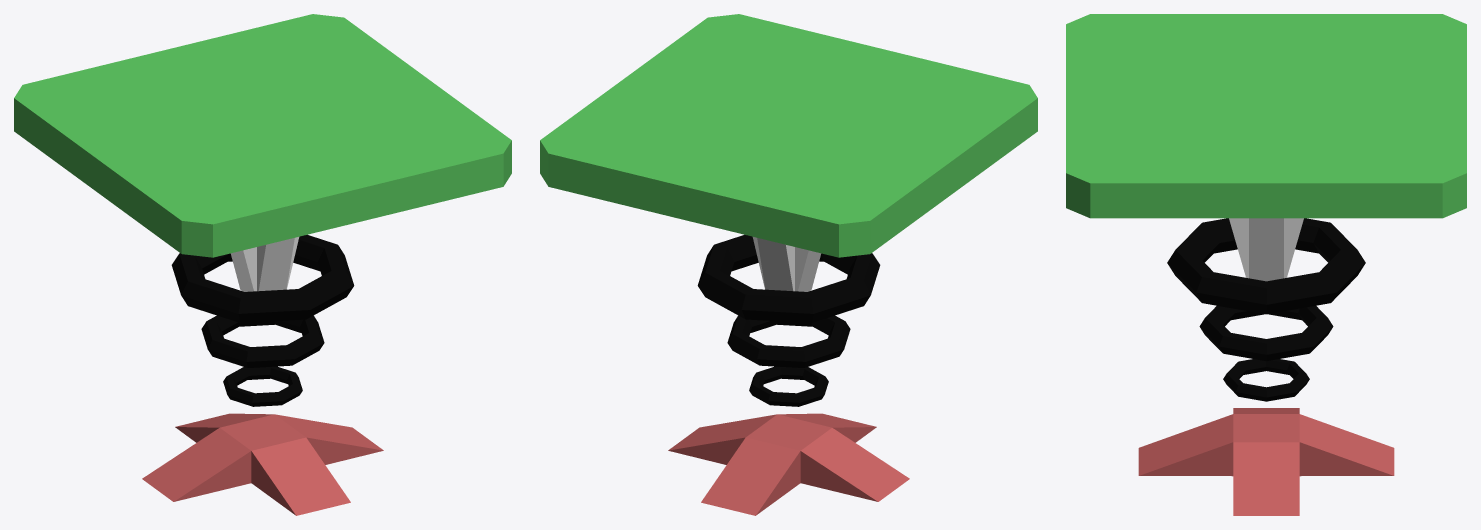
File: HoverTable.fbx
The picture shows the model from 3 angles, left to right: view 1: azimuth 30°, elevation 25°; view 2: azimuth 150°, elevation 25°; view 3: azimuth 270°, elevation 25°; orthographic projection. The views are drawn at different scales.
Parts seen in each view (by area): view 1: pCube4, pCube3, pTorus2, pTorus1, pCube5, pTorus3; view 2: pCube4, pCube3, pTorus2, pTorus1, pCube5, pTorus3; view 3: pCube4, pCube3, pTorus2, pTorus1, pCube5, pTorus3.
Boxes of the visible parts, x1,y1,x2,y2 form: pCube4: (14,14,511,257); pCube3: (142,413,383,515); pTorus2: (171,234,354,322); pTorus1: (201,315,324,367); pCube5: (230,237,299,291); pTorus3: (223,366,302,406); pCube4: (540,14,1037,257); pCube3: (668,413,909,515); pTorus2: (697,234,880,322); pTorus1: (727,315,850,367); pCube5: (752,237,821,291); pTorus3: (749,366,828,406); pCube4: (1066,14,1466,218); pCube3: (1138,408,1394,515); pTorus2: (1167,218,1365,314); pTorus1: (1199,306,1333,361); pCube5: (1229,218,1303,281); pTorus3: (1223,359,1309,401).
Bounding box in the file's own units: 1 × 1 × 1.
